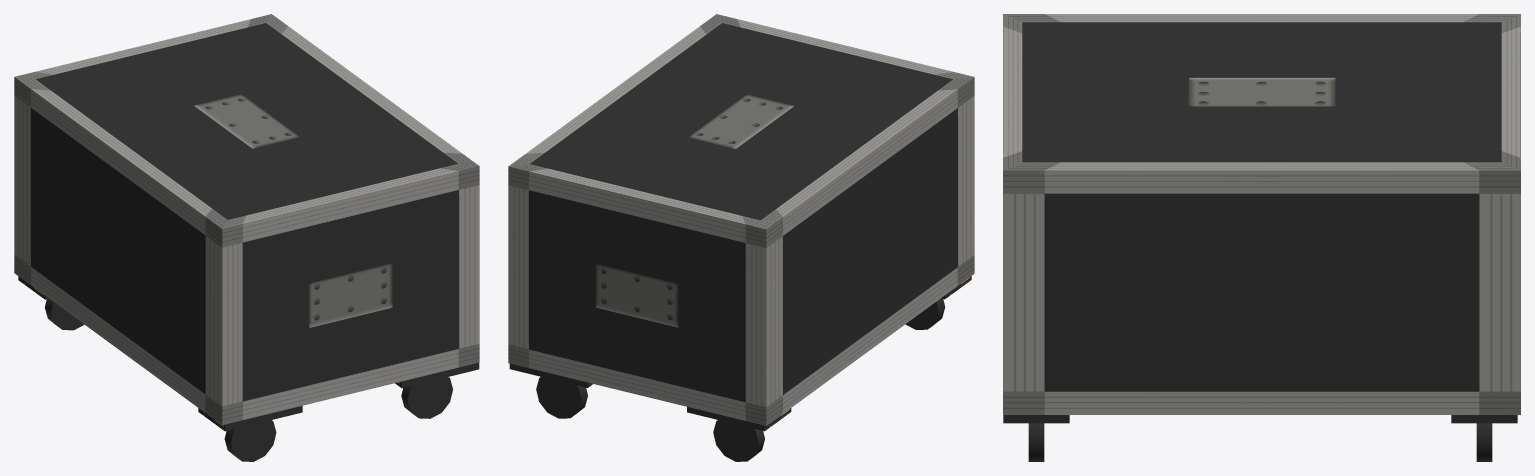
Rendered from Flight_case_1.fbx.
3 renders of one model, left to right at view 1: azimuth 30°, elevation 25°; view 2: azimuth 150°, elevation 25°; view 3: azimuth 270°, elevation 25°, orthographic. The views are drawn at different scales.
Parts seen in each view (by area): view 1: Flight_case_1; view 2: Flight_case_1; view 3: Flight_case_1.
Boxes of the visible parts, bbox=[...] form: Flight_case_1: bbox=[14, 14, 479, 461]; Flight_case_1: bbox=[508, 14, 974, 461]; Flight_case_1: bbox=[1003, 14, 1520, 461].
Size of the model in its own units: 1.15 by 1.07 by 1.6.
